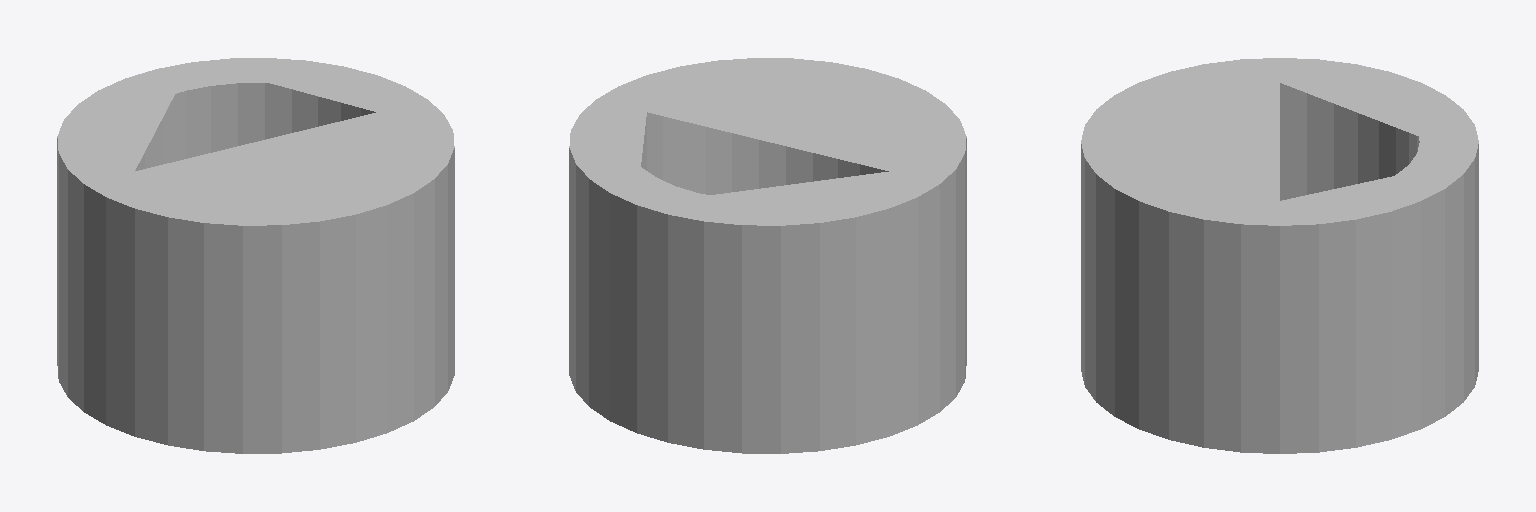
File: well.obj
3 views of the same model, side by side, from view 1: azimuth 30°, elevation 25°; view 2: azimuth 150°, elevation 25°; view 3: azimuth 270°, elevation 25° (orthographic).
Parts seen in each view (by area): view 1: Cylinder; view 2: Cylinder; view 3: Cylinder.
Boxes of the visible parts, <box> form: Cylinder: <box>57,58,454,453</box>; Cylinder: <box>569,58,966,453</box>; Cylinder: <box>1081,58,1478,453</box>.
Bounding box in the file's own units: 4.1 × 2.6 × 4.1.